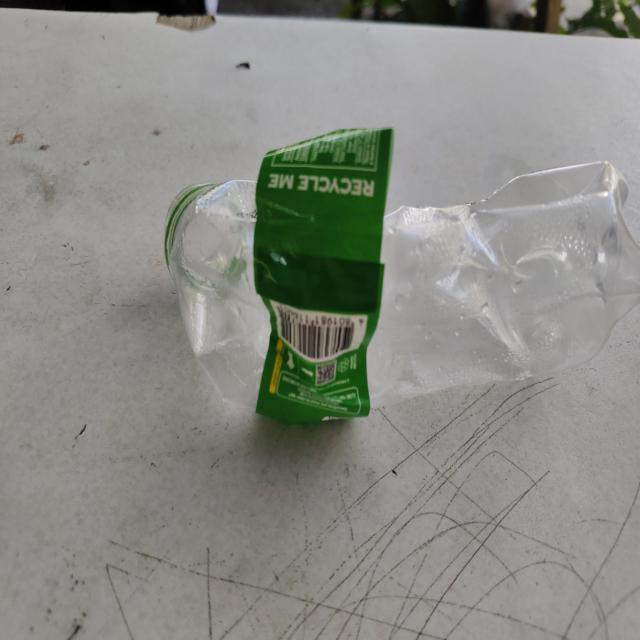Bottle: (165, 128, 640, 423)
